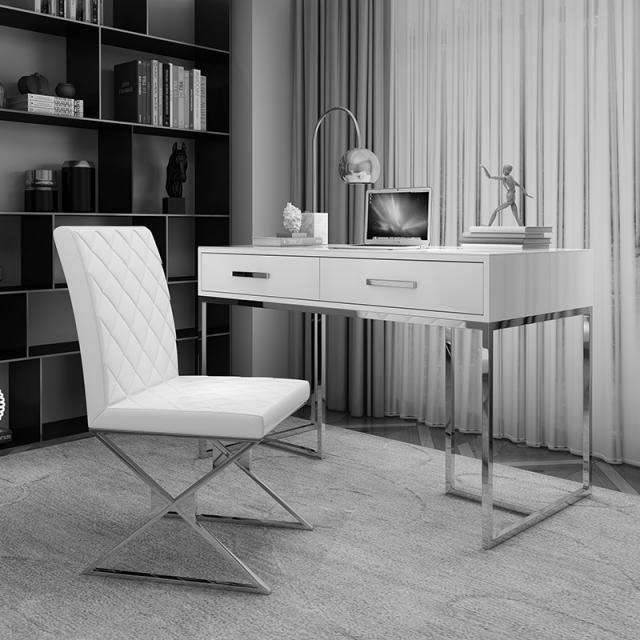table: (186, 202, 608, 346)
